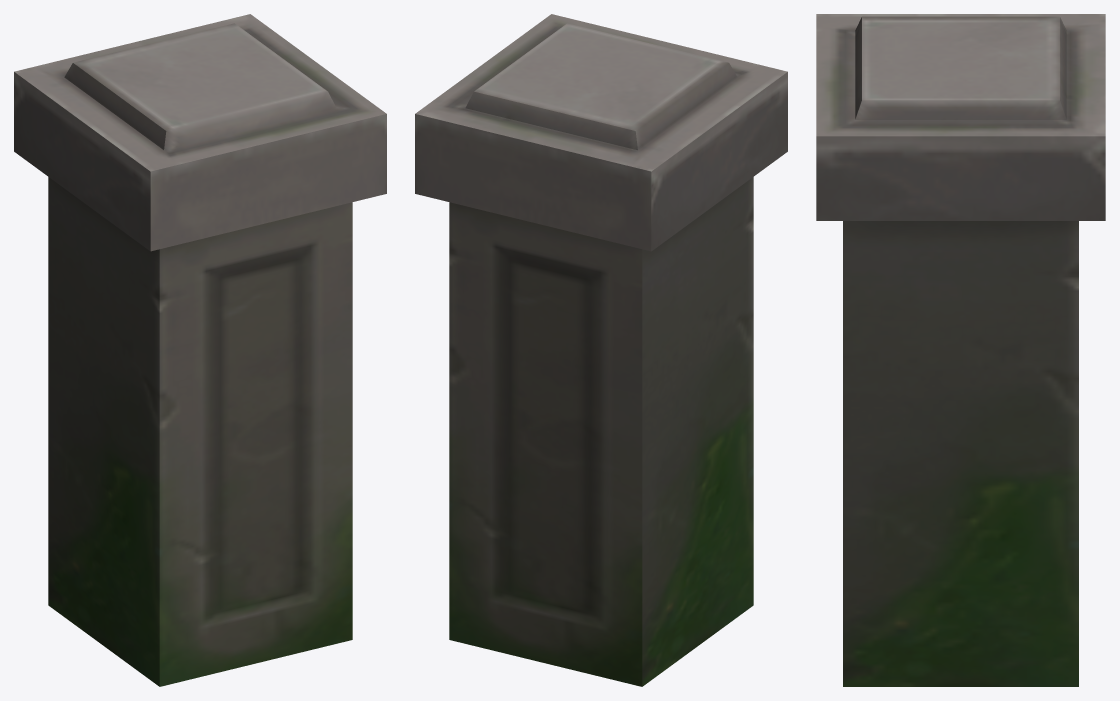
Rendered from scene_luoliante_shilangan01.FBX.
3 views of the same model, side by side, from view 1: azimuth 30°, elevation 25°; view 2: azimuth 150°, elevation 25°; view 3: azimuth 270°, elevation 25° (orthographic). The views are drawn at different scales.
Visible parts, largest first — view 1: scene_luoliante_shilangan01; view 2: scene_luoliante_shilangan01; view 3: scene_luoliante_shilangan01.
Part boxes in pixels (left/top/right/bottom): scene_luoliante_shilangan01: left=14, top=14, right=386, bottom=686; scene_luoliante_shilangan01: left=415, top=14, right=787, bottom=686; scene_luoliante_shilangan01: left=816, top=14, right=1105, bottom=686.
Size of the model in its own units: 52.21 by 115 by 52.21.
